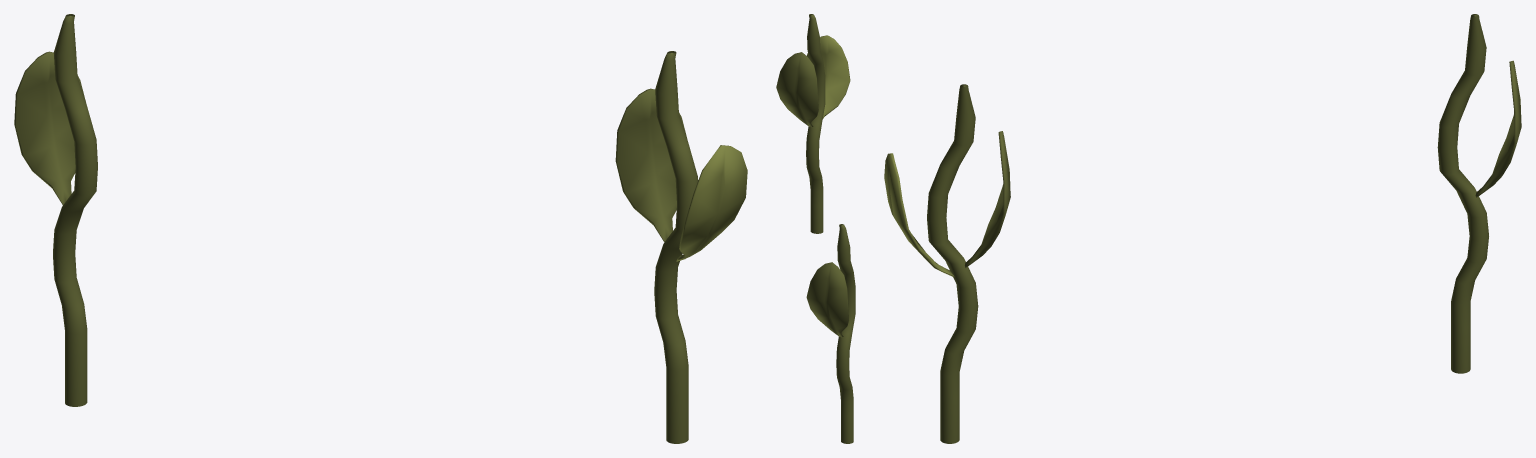
The model's file is 1ºFase_Patatas.fbx.
3 views of the same model, side by side, from view 1: azimuth 30°, elevation 25°; view 2: azimuth 150°, elevation 25°; view 3: azimuth 270°, elevation 25° (orthographic). The views are drawn at different scales.
Visible parts, largest first — view 1: Cylinder.001, Cylinder.002, Circle.005, Circle.008, Circle.007; view 2: Cylinder.002, Cylinder.001, Circle.005, Circle.008, Circle.007; view 3: Cylinder.002, Cylinder.001, Circle.007, Circle.005, Circle.008.
Boxes of the visible parts, <box> form: Cylinder.001: <box>53,14,97,406</box>; Cylinder.002: <box>654,51,698,443</box>; Circle.005: <box>14,51,85,204</box>; Circle.008: <box>615,88,687,241</box>; Circle.007: <box>676,145,747,261</box>; Cylinder.002: <box>806,14,825,233</box>; Cylinder.001: <box>836,224,855,443</box>; Circle.005: <box>806,262,848,337</box>; Circle.008: <box>776,52,818,127</box>; Circle.007: <box>807,35,850,118</box>; Cylinder.002: <box>927,84,978,443</box>; Cylinder.001: <box>1437,14,1488,373</box>; Circle.007: <box>884,153,954,276</box>; Circle.005: <box>1475,60,1521,197</box>; Circle.008: <box>965,131,1010,268</box>.
Bounding box in the file's own units: 27.18 × 29.93 × 39.99.
